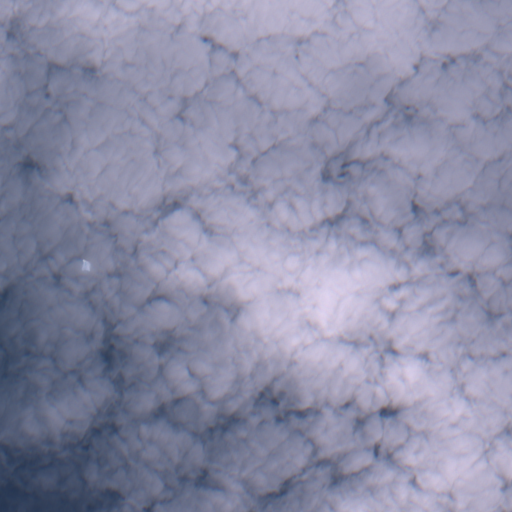Iceberg: (83, 260, 89, 270)
